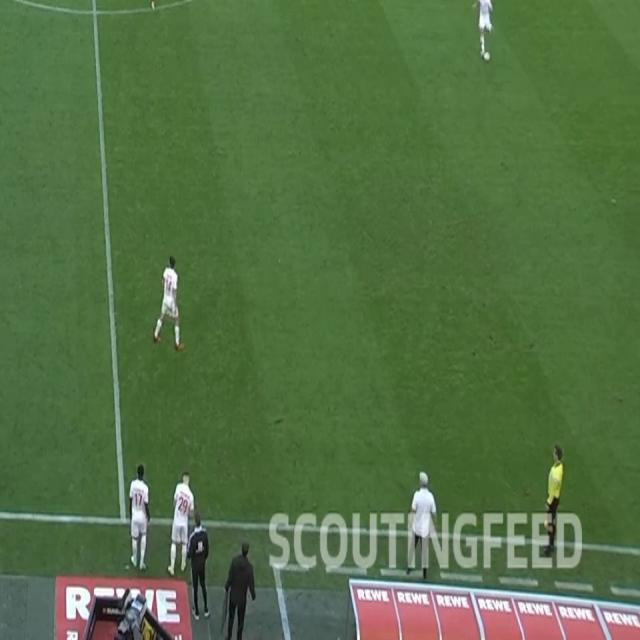ball: (483, 51, 491, 62)
